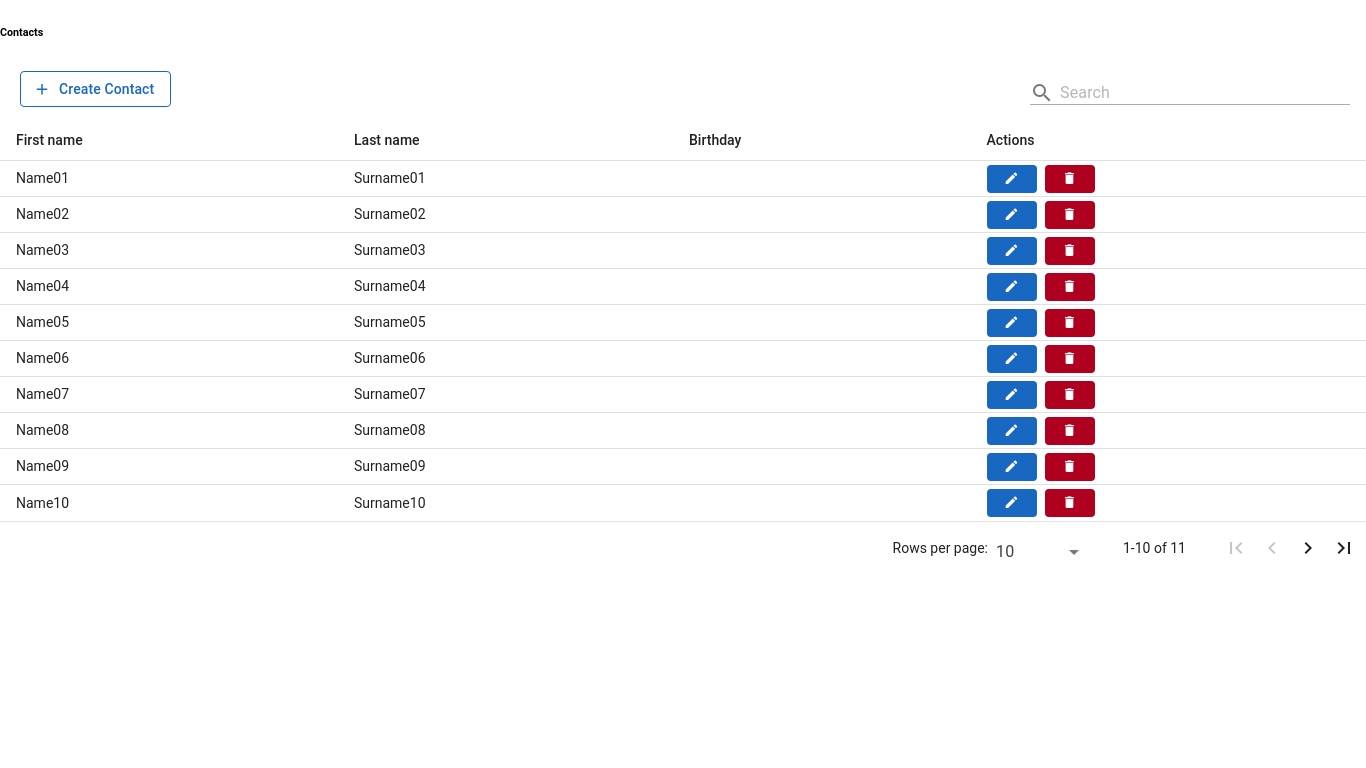
it: ContactsPage › deleting › goes back to the first page when the last row of the last page is deleted
The width and height of the screenshot is (1366, 768).
Click the button named "Next page" at (1308, 548), box [1290,530,1326,566]
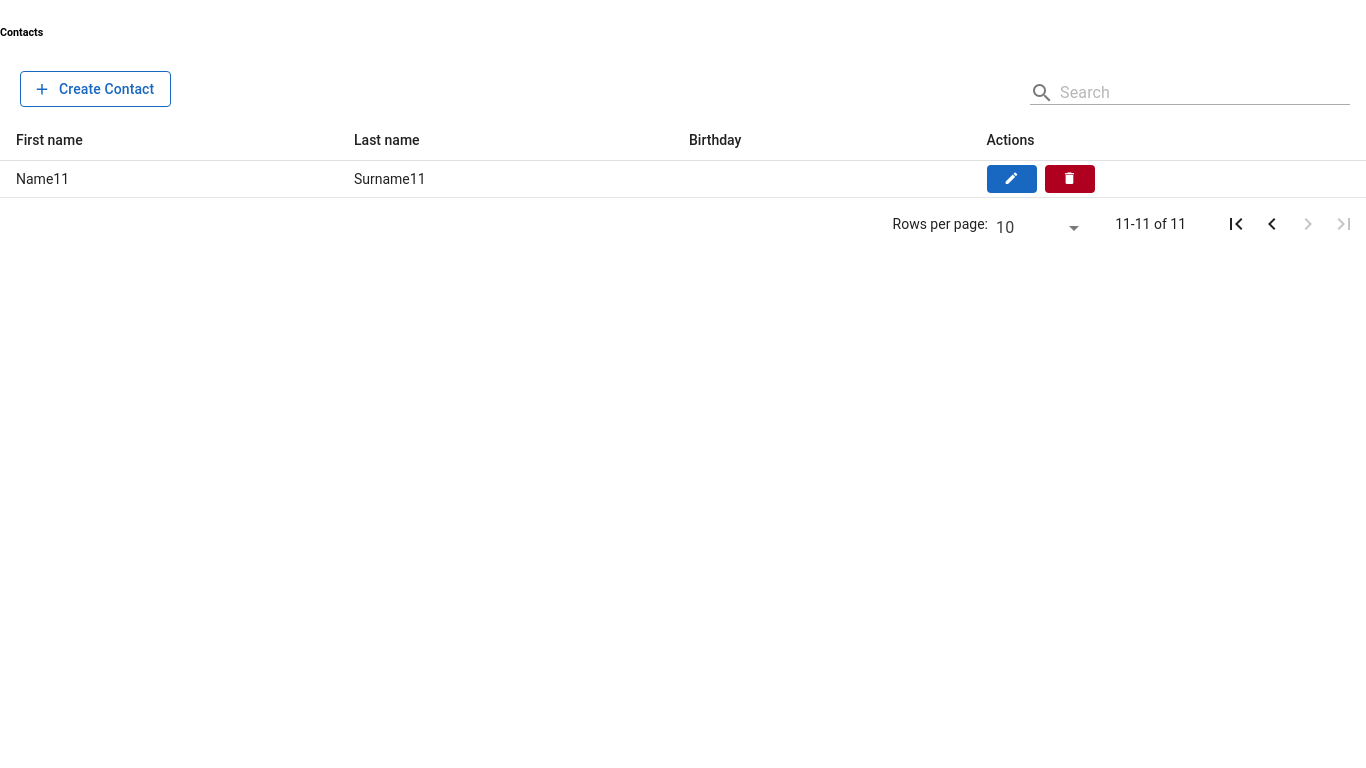
Click the button named "Delete contact" at (1070, 179), box [1044,165,1094,193]
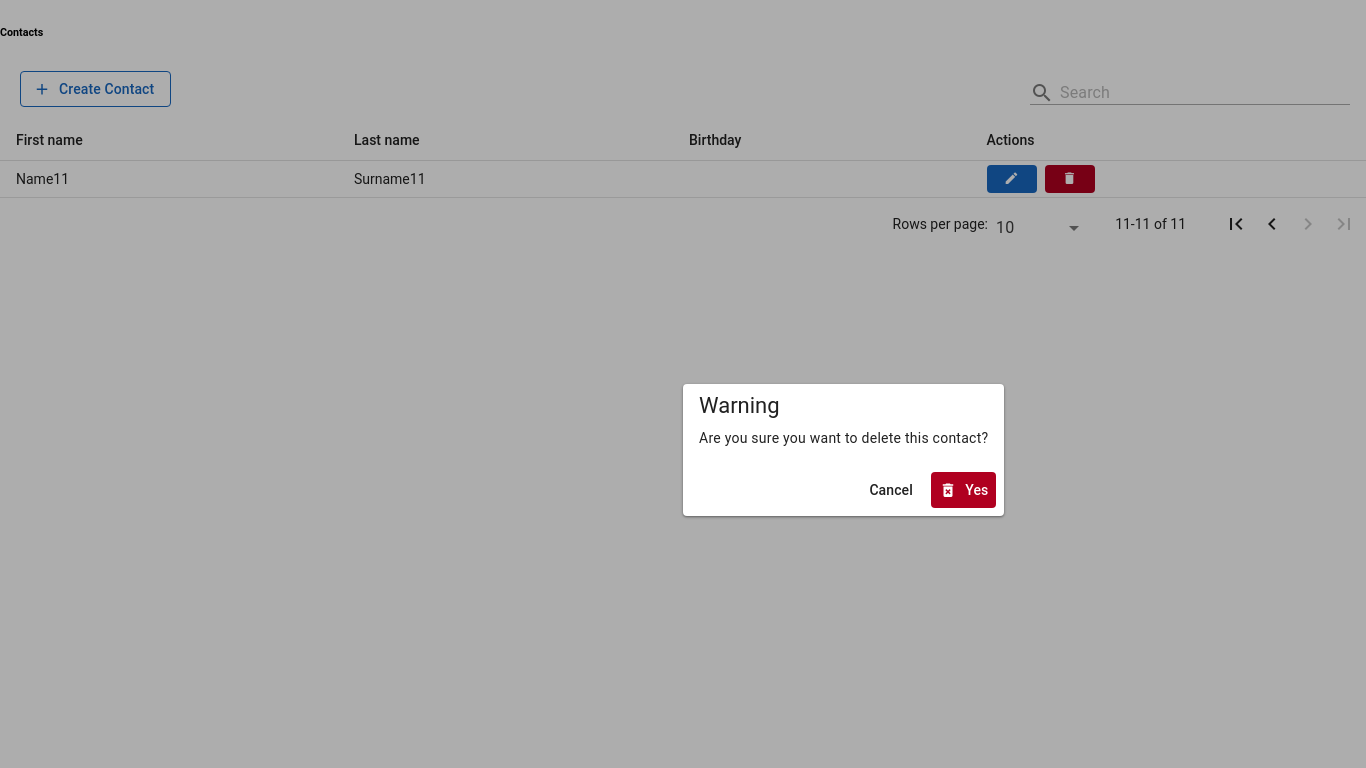
Click the button with test id "contact-delete-confirm" at (964, 490), box [931,472,996,508]
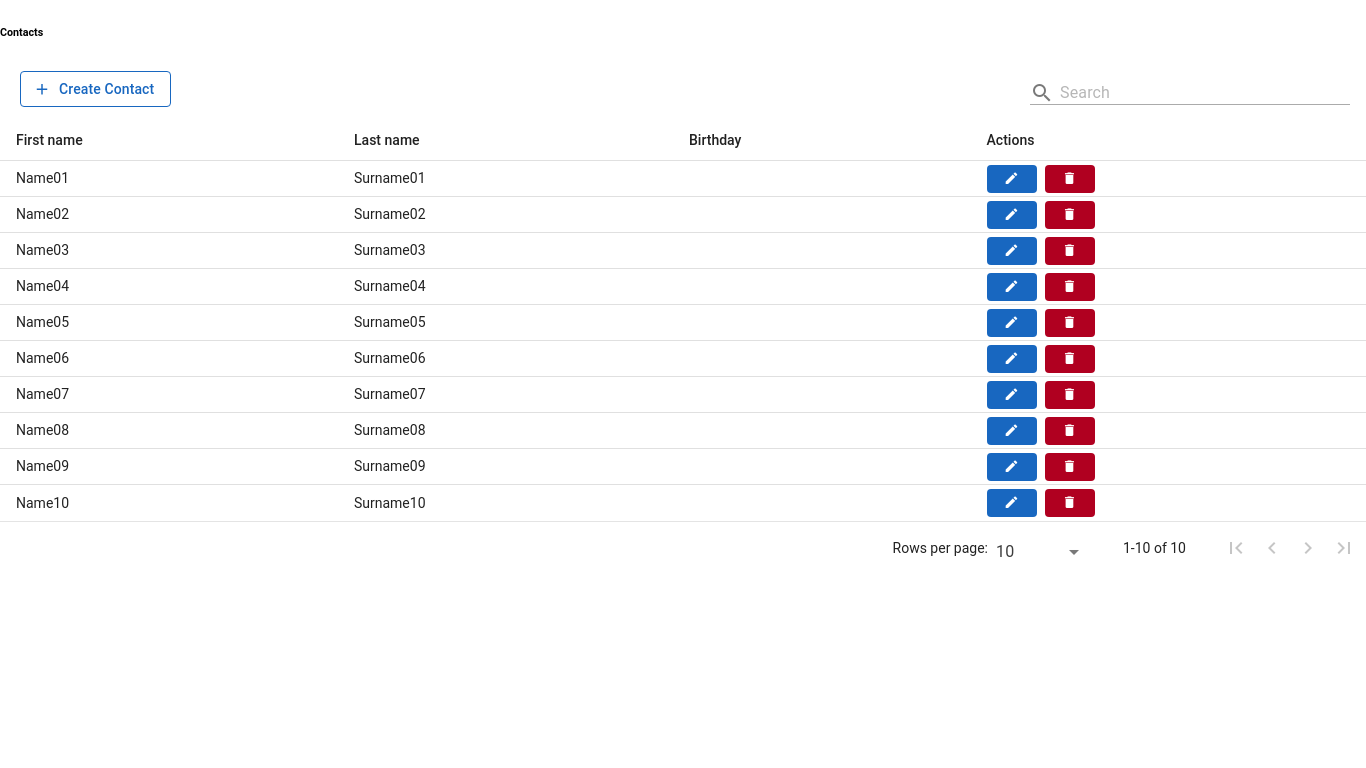
Expected: the text "1-10 of 10" is shown, [1123,540,1186,556]
